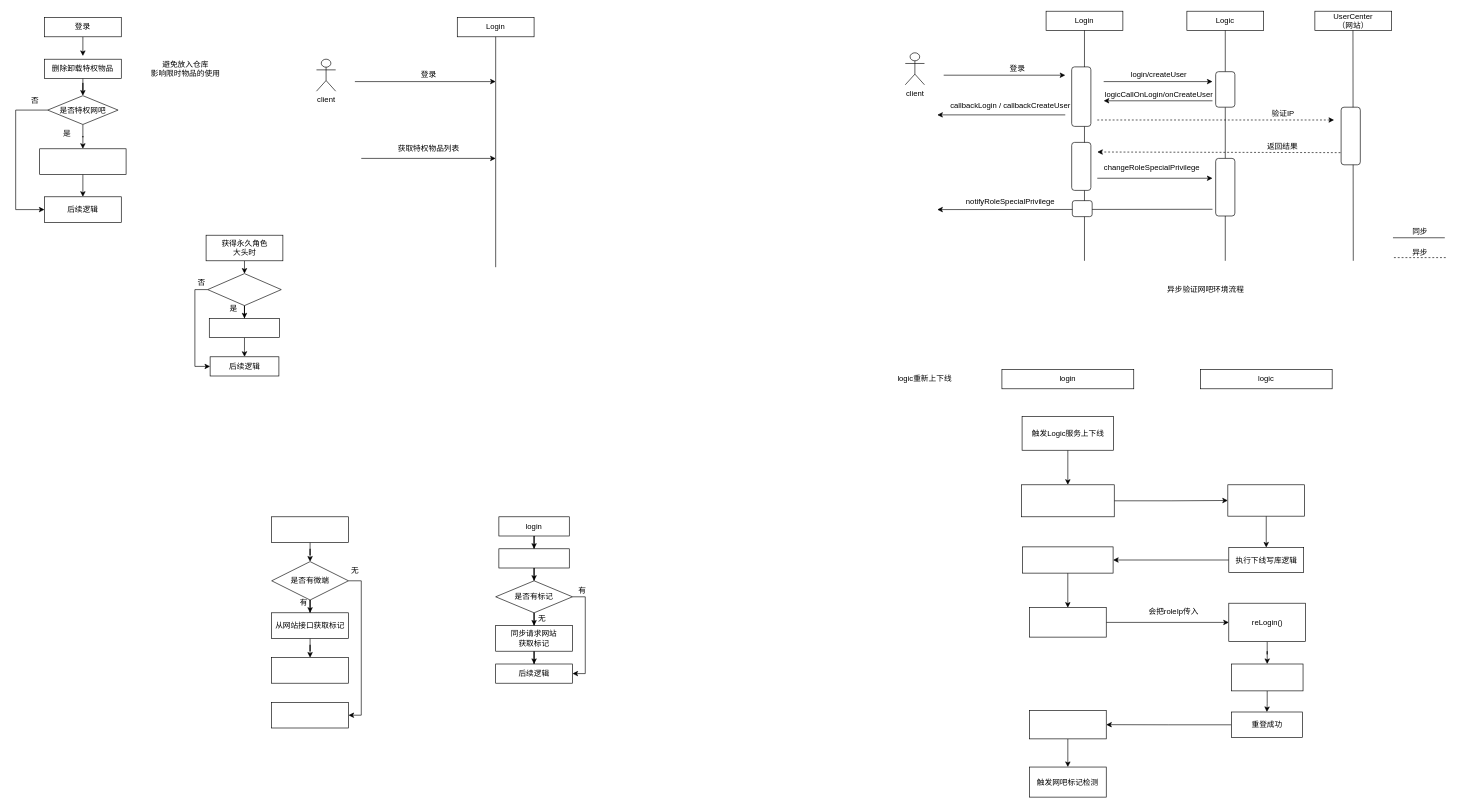
Some shapes in this 1458 by 808 pixel diagram are drawn without their labels. Here are the shapes that lost their labels. From the top down, the centre of each, then its label:
[82,161]: 发送新增物品
[244,289]: 是否存在 特权物品
[244,328]: 替换成普通物品
[1067,500]: forceUserToNewLogic()
[1266,500]: forceLogout()
[309,529]: 打开微端
[533,558]: 解析参数
[1067,559]: forceLogoutSuccess()
[1067,622]: 执行重登逻辑
[309,670]: 登录时接口传标记
[1267,677]: 更新Role.Ip字段
[309,715]: 服务端从网站接口获取网吧标记
[1067,724]: reLoginSuccess()
